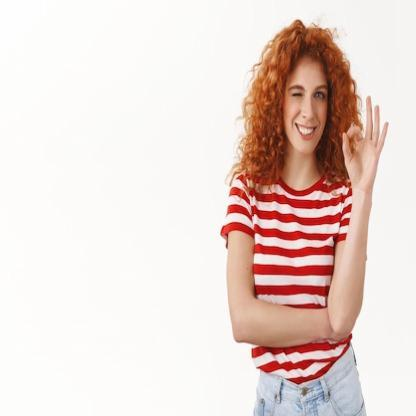ok: (341, 92, 390, 186)
